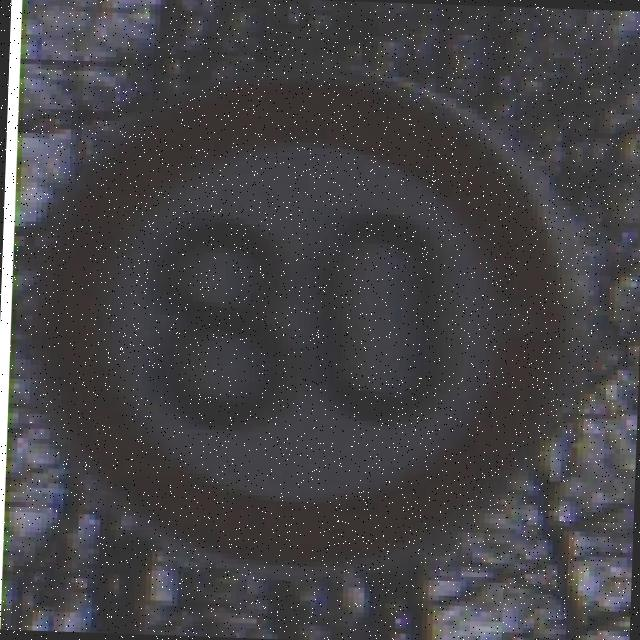Ograniczenie predkosci do 80: (24, 58, 582, 581)
